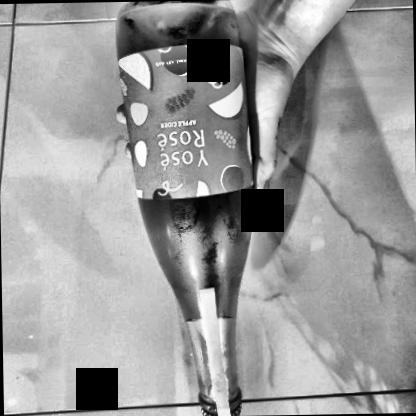yoserose: (118, 44, 254, 202)
